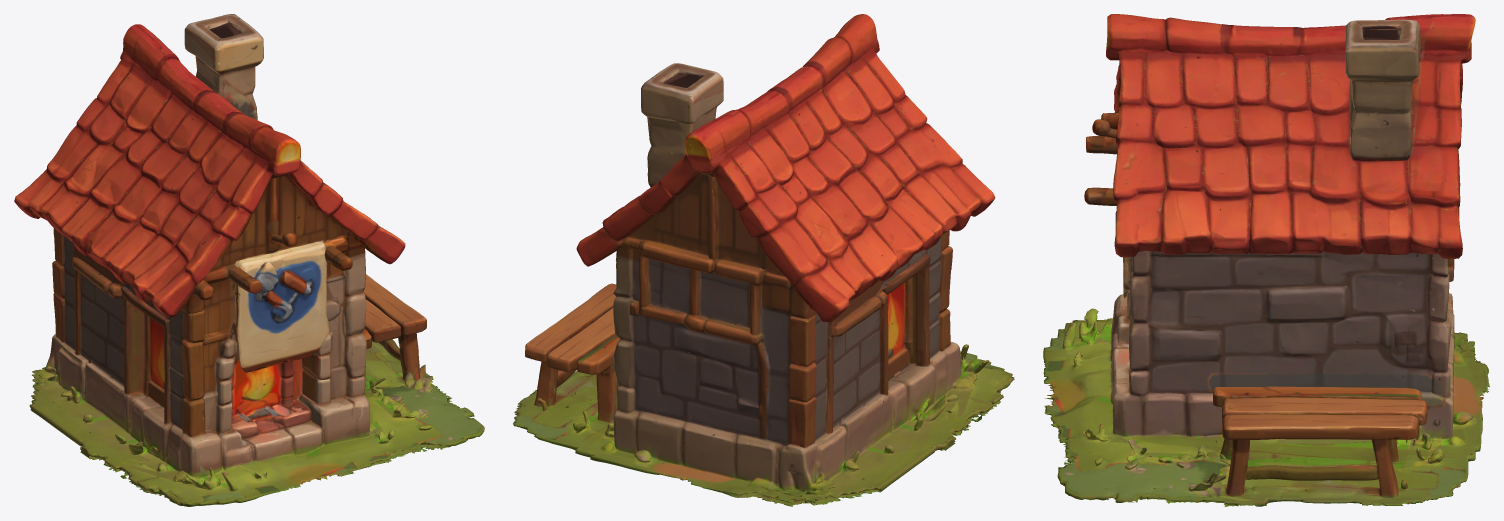
Rendered from weaponworkshop.glb.
3 views of the same model, side by side, from view 1: azimuth 30°, elevation 25°; view 2: azimuth 150°, elevation 25°; view 3: azimuth 270°, elevation 25° (orthographic). The views are drawn at different scales.
Bounding box in the file's own units: 2 × 1.92 × 1.94.
Materials: 1 (1 with a texture image).
